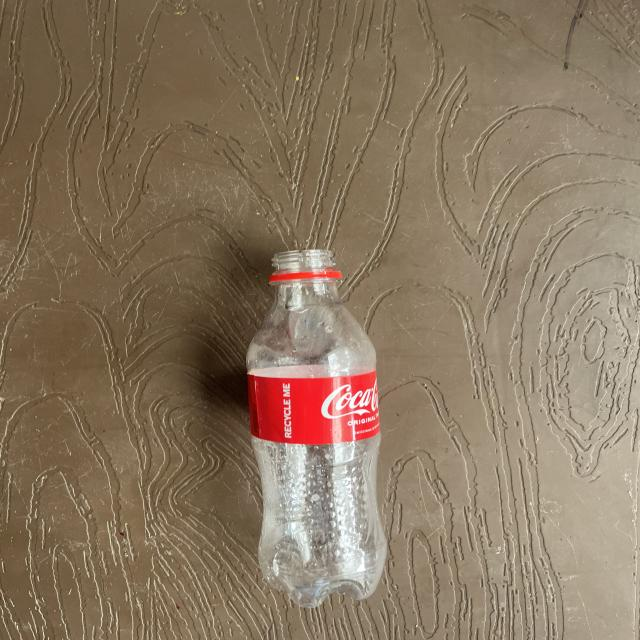REJECT: (65, 253, 428, 612)
